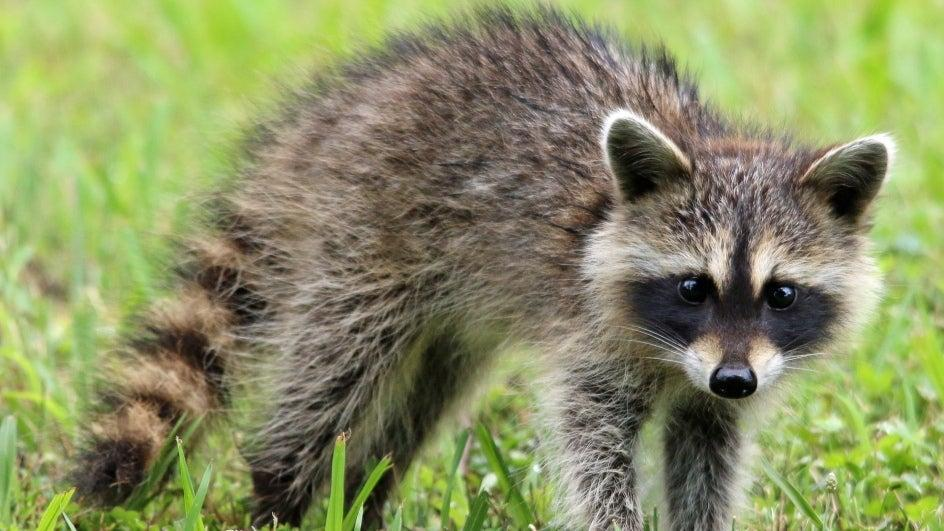raccoon: (78, 9, 895, 531)
